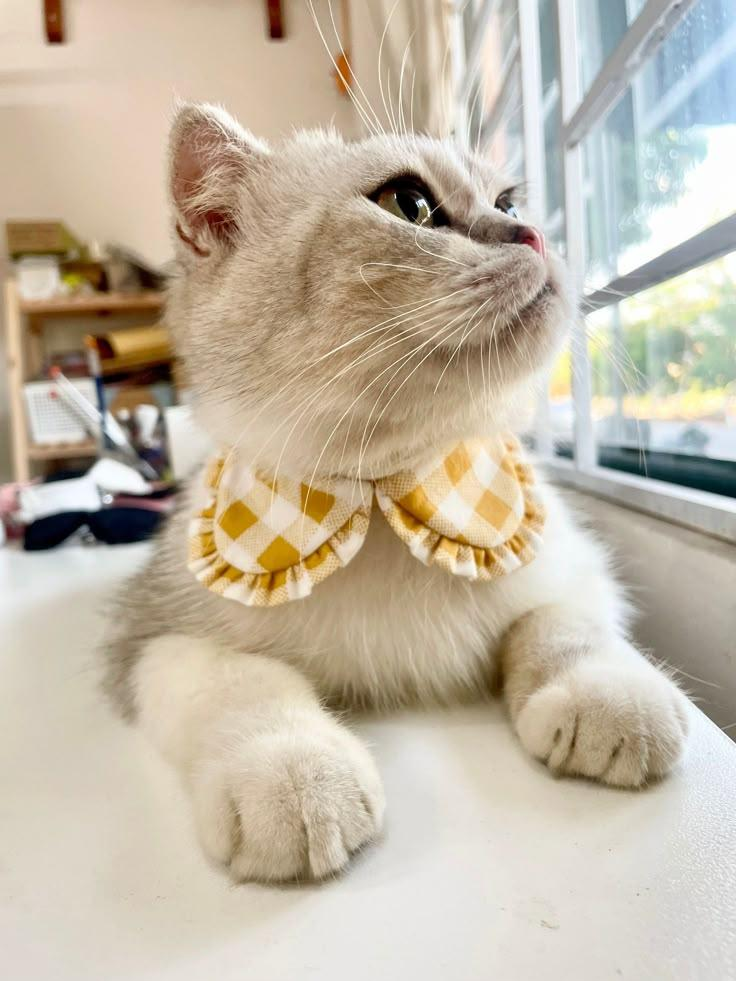kedo: (104, 106, 683, 884)
